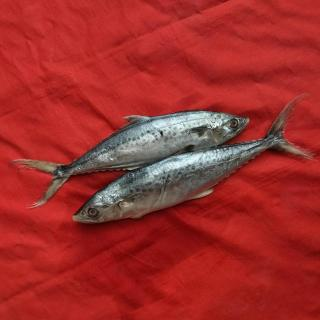Ikan: (3, 90, 320, 233)
